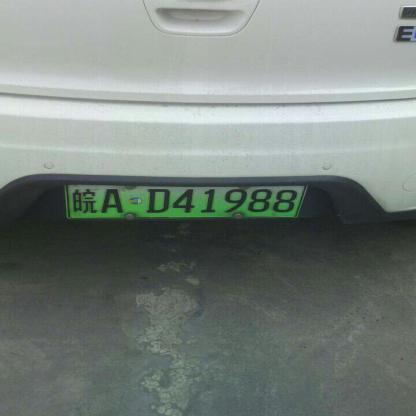lp: (65, 184, 303, 219)
